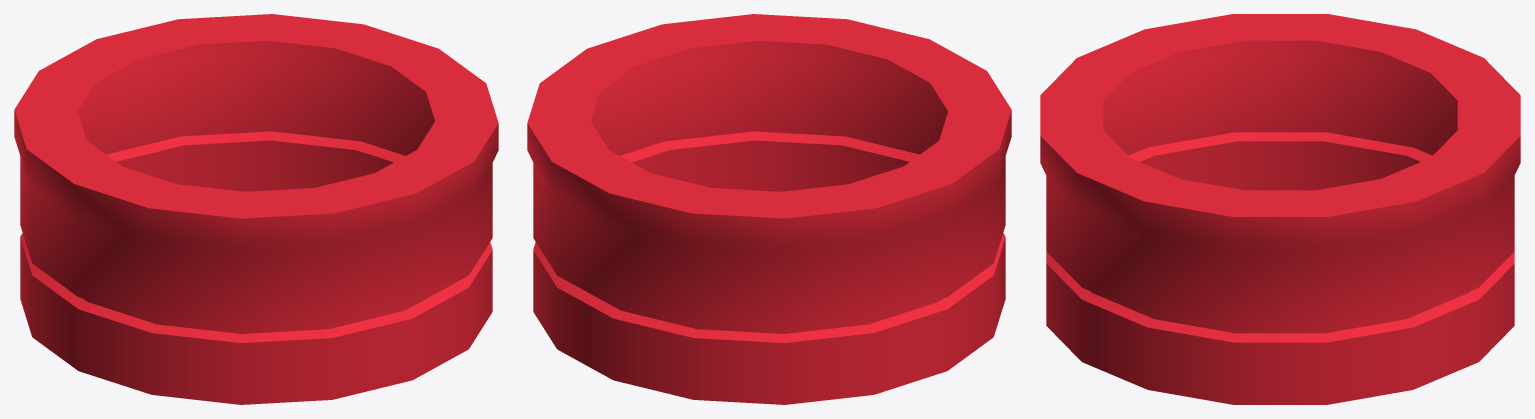
File: input.fbx
3 renders of one model, left to right at view 1: azimuth 30°, elevation 25°; view 2: azimuth 150°, elevation 25°; view 3: azimuth 270°, elevation 25°, orthographic.
Visible parts, largest first — view 1: Cylinder.015; view 2: Cylinder.015; view 3: Cylinder.015.
Part boxes in pixels (x1,y1,x2,y2): Cylinder.015: [14, 14, 498, 404]; Cylinder.015: [527, 14, 1011, 404]; Cylinder.015: [1040, 14, 1520, 404].
Bounding box in the file's own units: 10.92 × 4.78 × 10.92.
